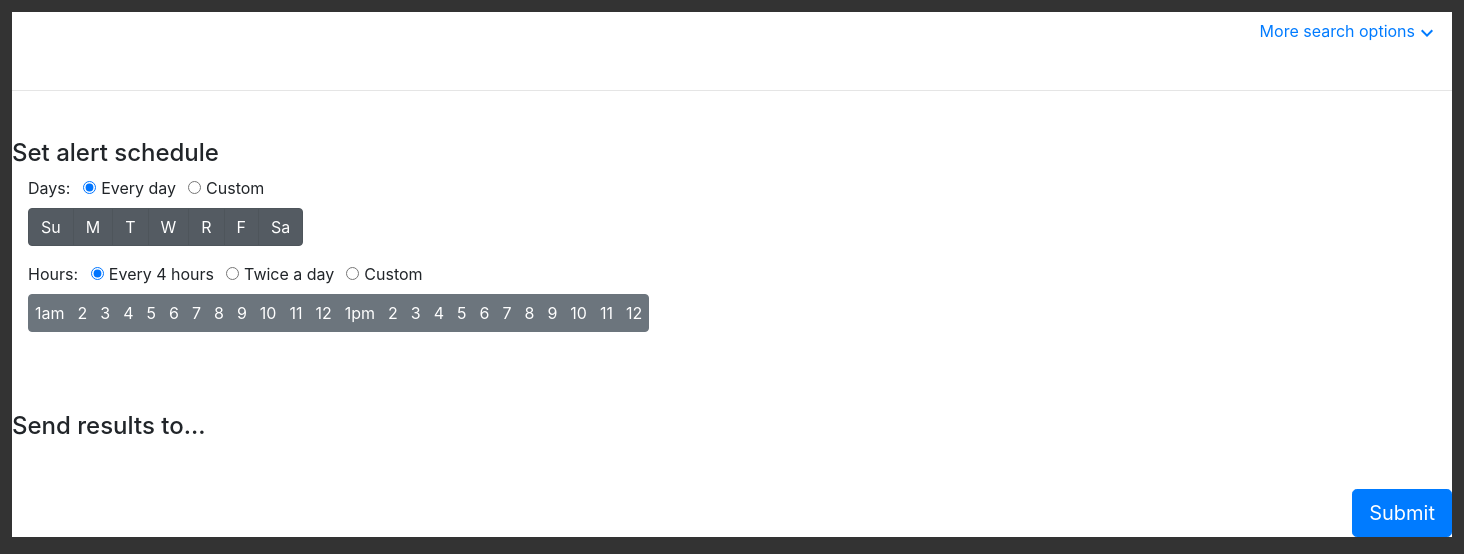
Test: HomePageForm › should select every fourth hour when "Every 4 hours" radio button is selected
Click the radio button labelled "Custom" next to "Twice a day": (353, 274) x1=346 y1=267 x2=359 y2=280
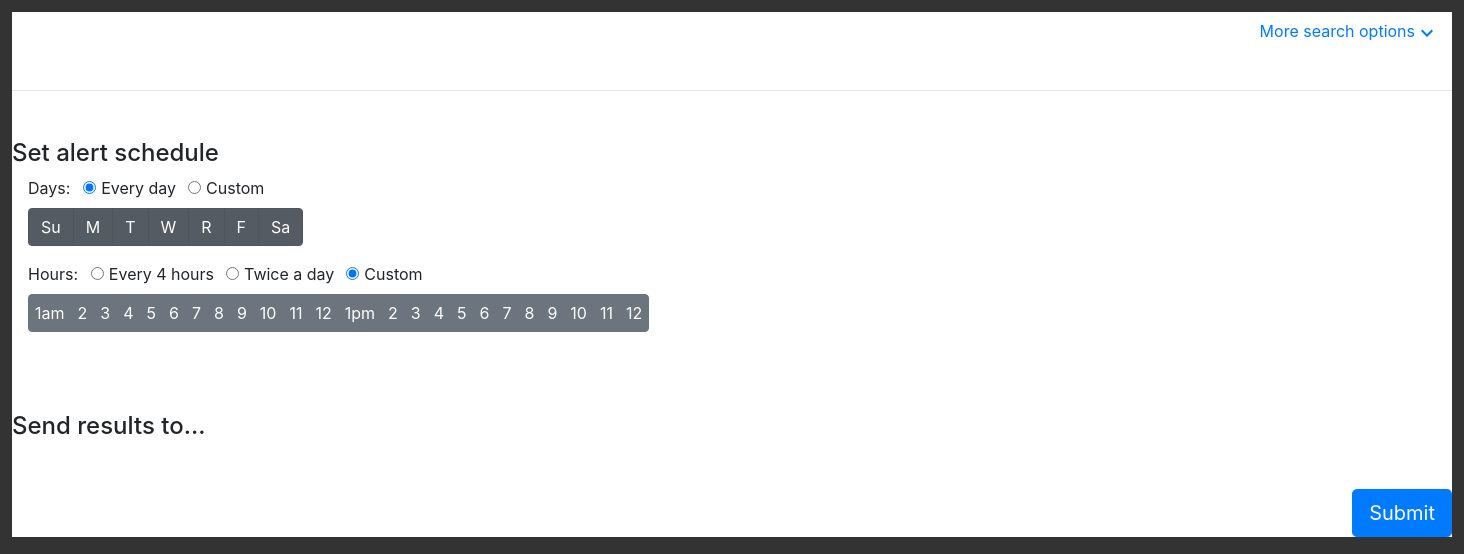
Expected: the checkbox showing "0" is not checked, x1=35 y1=301 x2=48 y2=314
Expected: the 1st checkbox showing "1" is not checked, x1=78 y1=301 x2=90 y2=314
Click the radio button labelled "Every 4 hours": (97, 274) x1=91 y1=267 x2=104 y2=280
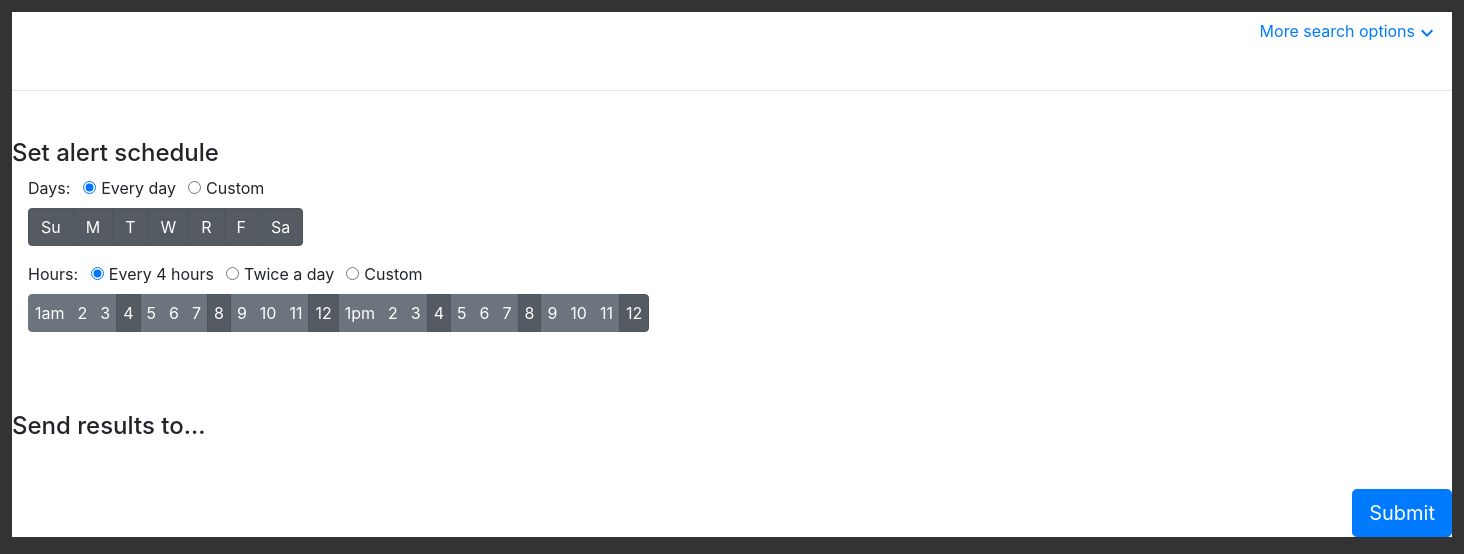
Expected: the 1st checkbox showing "11" is checked, x1=316 y1=301 x2=328 y2=314
Expected: the 2nd checkbox showing "15" is checked, x1=434 y1=301 x2=447 y2=314
Expected: the 2nd checkbox showing "19" is checked, x1=524 y1=301 x2=538 y2=314
